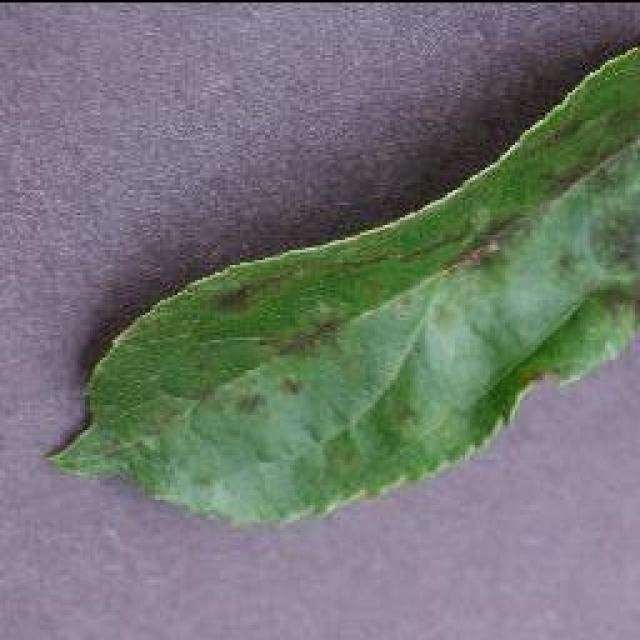apple scab disease: (42, 18, 638, 530)
